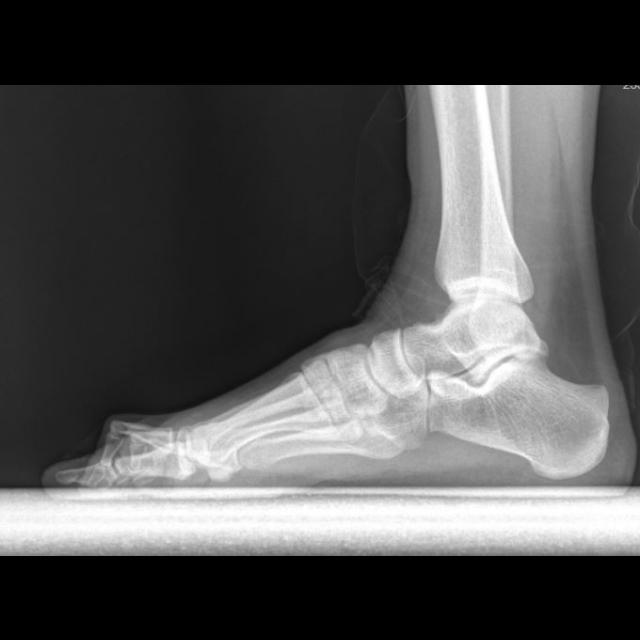a: (426, 350, 610, 475)
b: (368, 328, 424, 396)
c: (184, 369, 319, 467)
